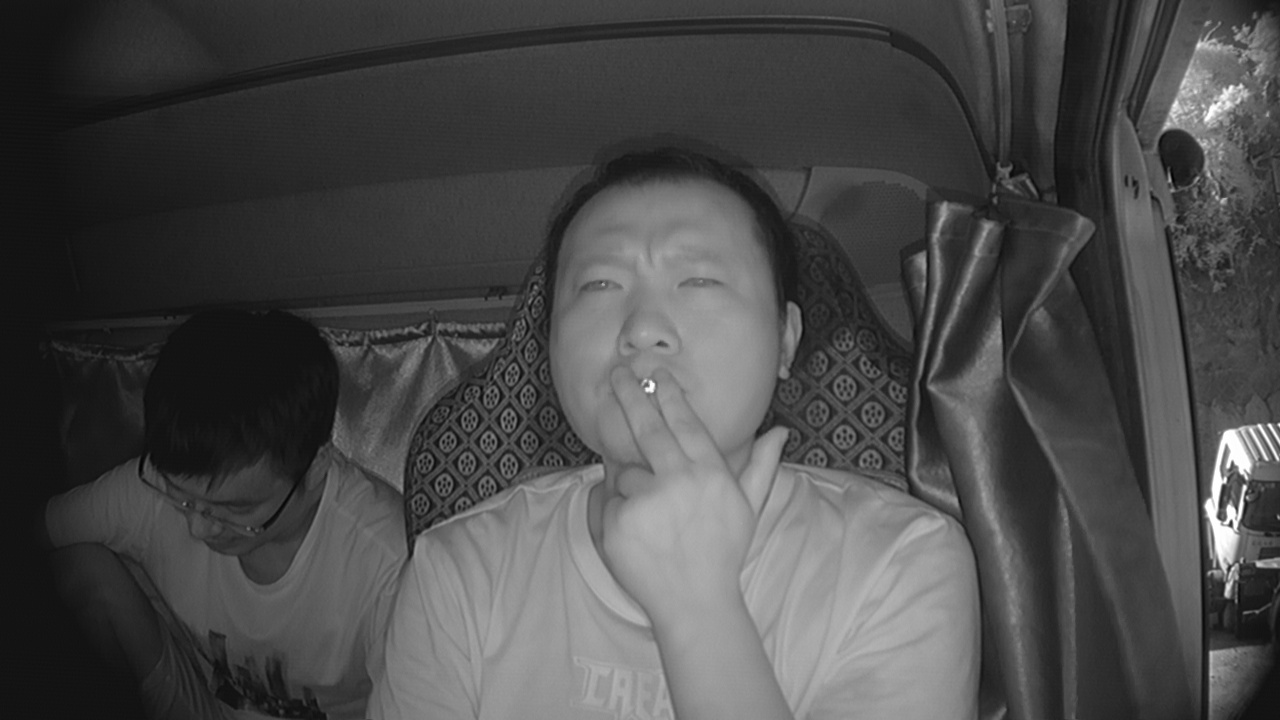hand: (598, 361, 782, 597)
